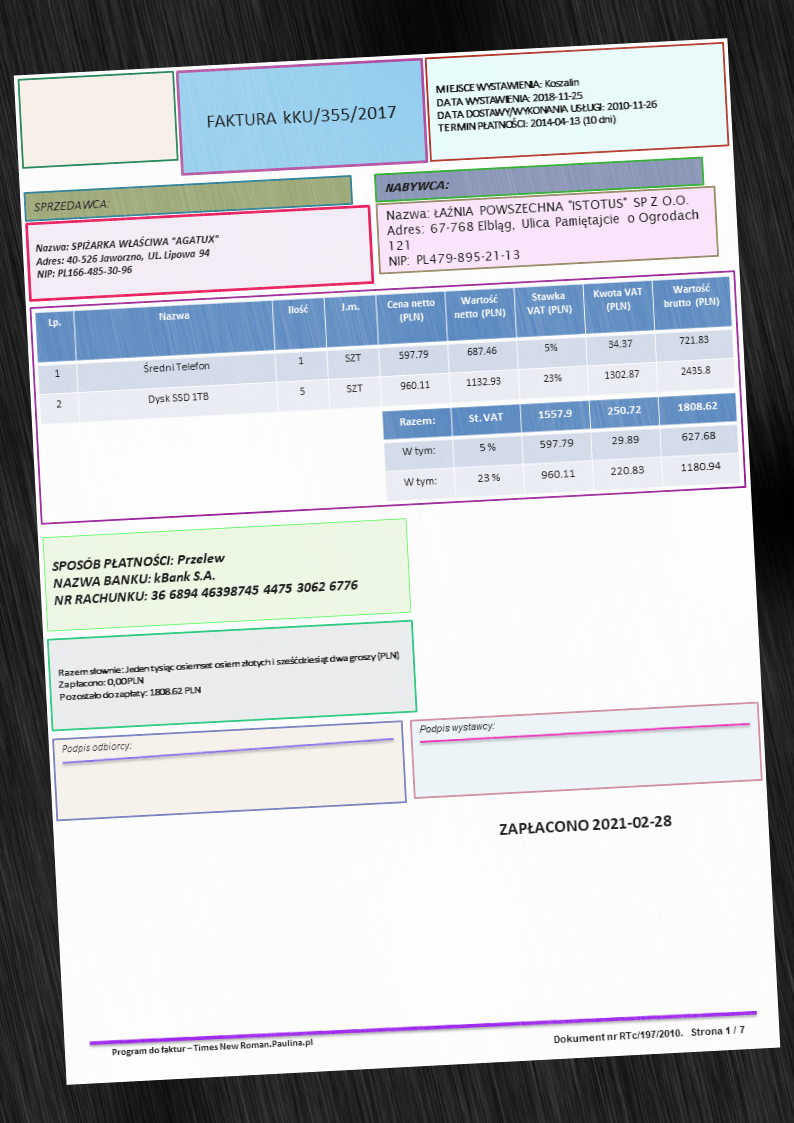Table: (33, 275, 736, 426), (381, 391, 743, 503)
TextBox: (382, 190, 702, 269), (48, 538, 360, 612), (55, 645, 405, 705), (433, 68, 659, 136), (32, 231, 222, 281), (204, 101, 398, 133), (108, 1035, 316, 1060), (551, 1021, 750, 1047), (497, 811, 674, 838), (30, 193, 112, 215), (417, 718, 498, 738), (58, 736, 133, 757), (382, 175, 452, 196)
